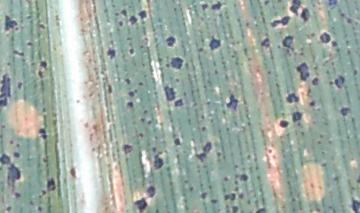tarspot: (5, 162, 23, 193), (1, 72, 13, 109), (195, 140, 213, 163), (295, 60, 312, 83), (2, 13, 17, 35), (281, 34, 297, 54), (161, 83, 176, 102), (225, 93, 240, 111), (267, 15, 291, 26), (134, 197, 149, 213), (333, 72, 346, 90), (284, 91, 300, 105), (152, 151, 164, 169), (220, 191, 238, 203), (169, 55, 184, 69), (207, 36, 221, 51), (299, 8, 312, 24), (348, 196, 360, 213), (318, 30, 332, 44), (277, 116, 290, 131), (291, 109, 304, 123), (259, 36, 272, 50), (144, 182, 156, 197), (338, 104, 351, 117), (121, 141, 133, 155), (37, 125, 48, 140), (165, 33, 176, 48), (173, 98, 186, 110), (12, 48, 26, 59), (46, 176, 55, 193), (68, 163, 77, 180), (252, 205, 270, 213), (238, 172, 251, 183), (36, 20, 47, 33), (290, 1, 300, 15), (137, 9, 148, 21), (125, 88, 137, 99), (3, 202, 15, 213), (1, 150, 10, 164), (106, 47, 116, 59), (119, 6, 129, 18), (210, 1, 222, 11), (104, 83, 114, 95), (15, 79, 25, 91), (173, 134, 180, 150), (39, 59, 50, 69), (12, 149, 22, 160), (122, 75, 133, 85), (199, 190, 209, 201), (116, 19, 126, 30), (221, 173, 231, 184), (128, 15, 137, 27), (209, 197, 221, 206), (39, 156, 51, 165), (344, 16, 354, 26), (311, 75, 320, 86), (36, 69, 45, 80), (25, 39, 34, 50), (327, 1, 338, 10), (230, 204, 241, 213), (261, 1, 273, 9), (127, 46, 136, 56), (308, 98, 317, 108), (140, 106, 150, 115), (126, 99, 134, 110), (198, 3, 209, 11), (137, 130, 145, 141), (200, 124, 208, 135), (214, 150, 225, 158), (36, 204, 44, 213), (136, 80, 145, 88), (199, 112, 206, 122), (239, 192, 246, 201), (8, 138, 15, 146)
